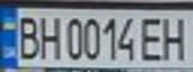0: (81, 14, 103, 61), (63, 14, 84, 61)
1: (100, 15, 121, 61)
4: (115, 14, 139, 62)
B: (12, 11, 42, 61)
E: (136, 14, 169, 62)
H: (157, 12, 193, 62), (36, 11, 63, 61)
